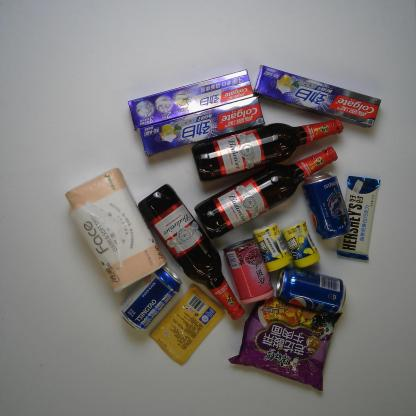Alcohol: (138, 180, 250, 318), (192, 147, 339, 238), (187, 117, 347, 182), (121, 261, 181, 338)
Canned Food: (226, 236, 276, 304)
Chocolate: (336, 168, 380, 260)
Drink: (277, 266, 347, 317), (302, 172, 354, 240)
Gum: (284, 214, 322, 269), (256, 221, 292, 273)
Instant Noodles: (230, 293, 340, 394)
Personal Hygiene: (252, 62, 381, 130), (138, 96, 268, 158), (128, 70, 254, 128)
Seasoner: (148, 280, 226, 362)
Tissue: (64, 162, 170, 292)
